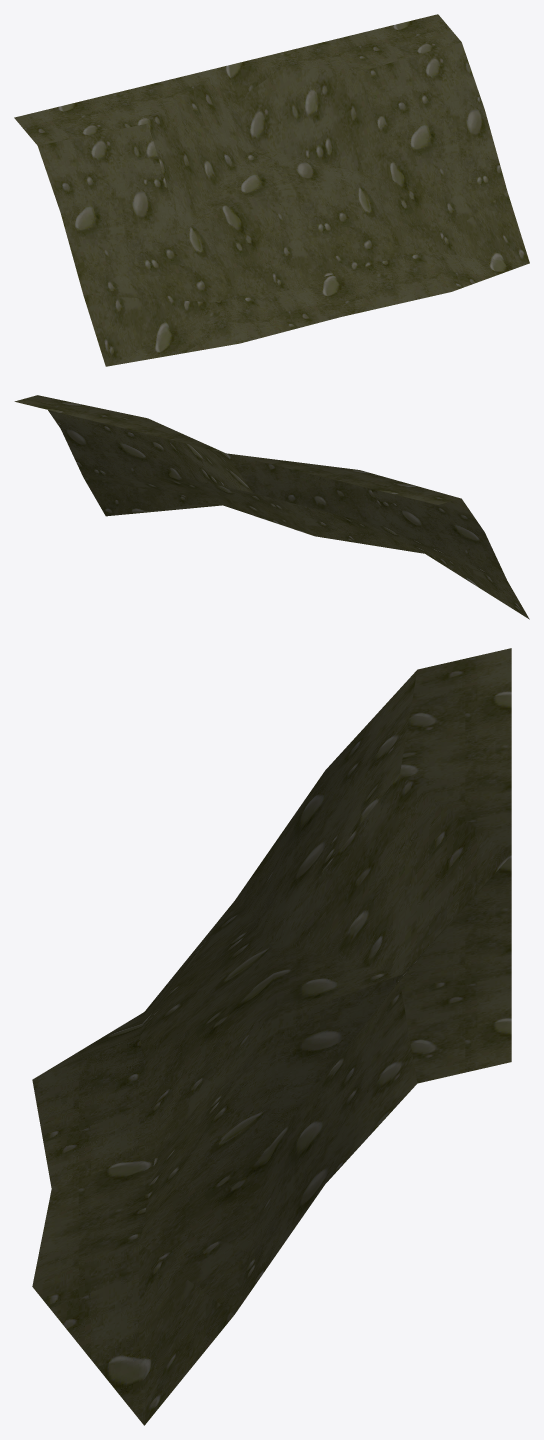
File: dirt-re.FBX
The picture shows the model from 3 angles, top to bottom: view 1: azimuth 30°, elevation 25°; view 2: azimuth 150°, elevation 25°; view 3: azimuth 270°, elevation 25°; orthographic projection. The views are drawn at different scales.
Visible parts, largest first — view 1: Plane016; view 2: Plane016; view 3: Plane016.
Part boxes in pixels (bbox=[...]): Plane016: bbox=[14, 14, 529, 366]; Plane016: bbox=[14, 395, 529, 619]; Plane016: bbox=[32, 648, 511, 1425].
Bounding box in the file's own units: 6338 × 2598 × 3101.
1 material, 1 textured.
